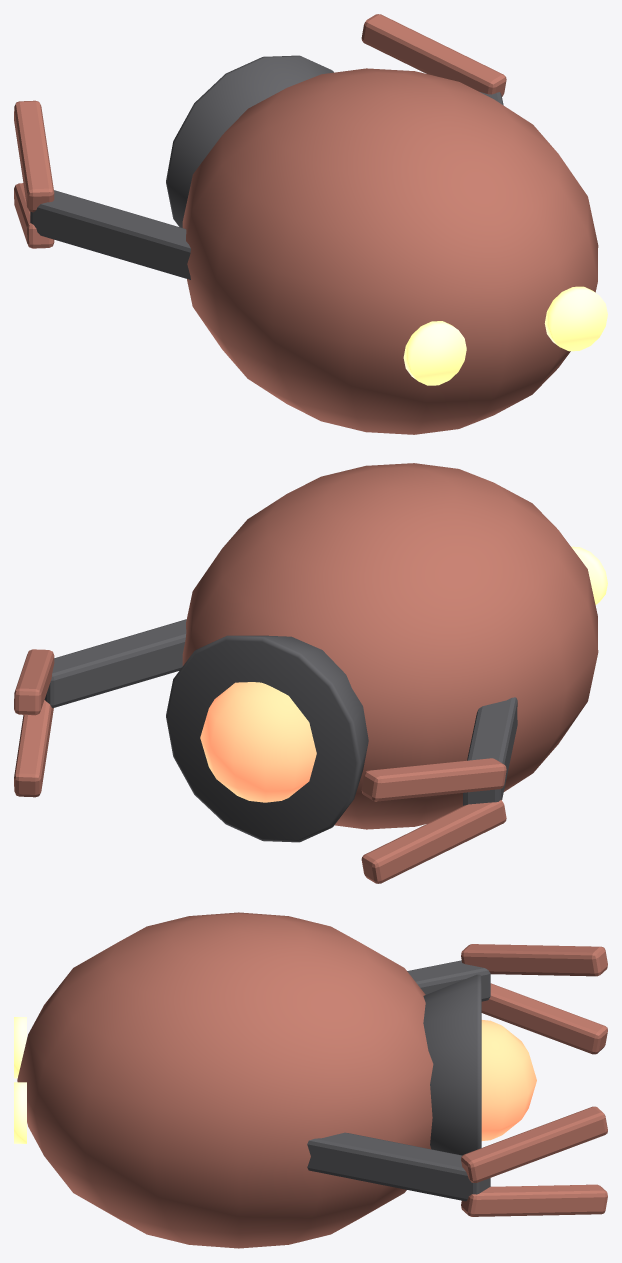
Rendered from greifer.glb.
3 renders of one model, top to bottom at view 1: azimuth 30°, elevation 25°; view 2: azimuth 150°, elevation 25°; view 3: azimuth 270°, elevation 25°, orthographic. The views are drawn at different scales.
Visible parts, largest first — view 1: Koerper, Projektor, Oberarm-1, Zange1a, Duese1.002, Duese-1.002, Zange-1a, Zange-1b; view 2: Koerper, Projektor, Linse, Oberarm1, Zange-1b, Zange-1a, Oberarm-1, Zange1b, Zange1a, Duese-1.002; view 3: Koerper, Projektor, Oberarm1, Linse, Zange1a, Zange1b, Zange-1a, Zange-1b, Oberarm-1, Duese1.002, Duese-1.002.
Part boxes in pixels (x1,y1,x2,y2): Koerper: (182, 68, 598, 434); Projektor: (166, 55, 333, 227); Oberarm-1: (30, 190, 190, 279); Zange1a: (361, 14, 506, 96); Duese1.002: (544, 286, 607, 351); Duese-1.002: (403, 321, 466, 385); Zange-1a: (14, 100, 54, 212); Zange-1b: (14, 183, 54, 248); Koerper: (182, 463, 598, 829); Projektor: (166, 635, 368, 842); Linse: (200, 682, 316, 802); Oberarm1: (44, 619, 186, 707); Zange-1b: (361, 800, 506, 883); Zange-1a: (361, 758, 506, 801); Oberarm-1: (463, 697, 517, 805); Zange1b: (14, 700, 53, 797); Zange1a: (14, 649, 54, 715); Duese-1.002: (571, 546, 607, 604); Koerper: (17, 912, 433, 1248); Projektor: (423, 974, 481, 1155); Oberarm1: (307, 1132, 490, 1201); Linse: (481, 1020, 536, 1140); Zange1a: (461, 1106, 607, 1182); Zange1b: (461, 1184, 607, 1216); Zange-1a: (461, 944, 607, 976); Zange-1b: (481, 983, 607, 1054); Oberarm-1: (407, 960, 490, 1001); Duese1.002: (14, 1082, 26, 1143); Duese-1.002: (14, 1017, 26, 1078).
Size of the model in its own units: 2.03 by 1.28 by 2.31.
